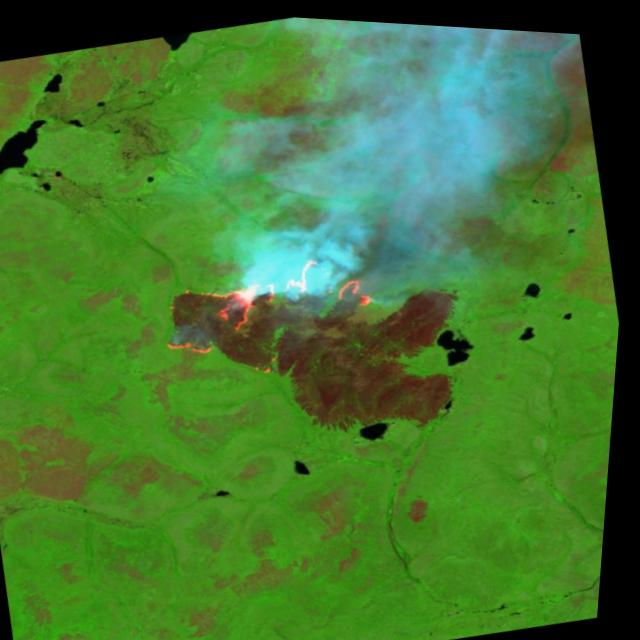fire: (157, 233, 391, 369)
